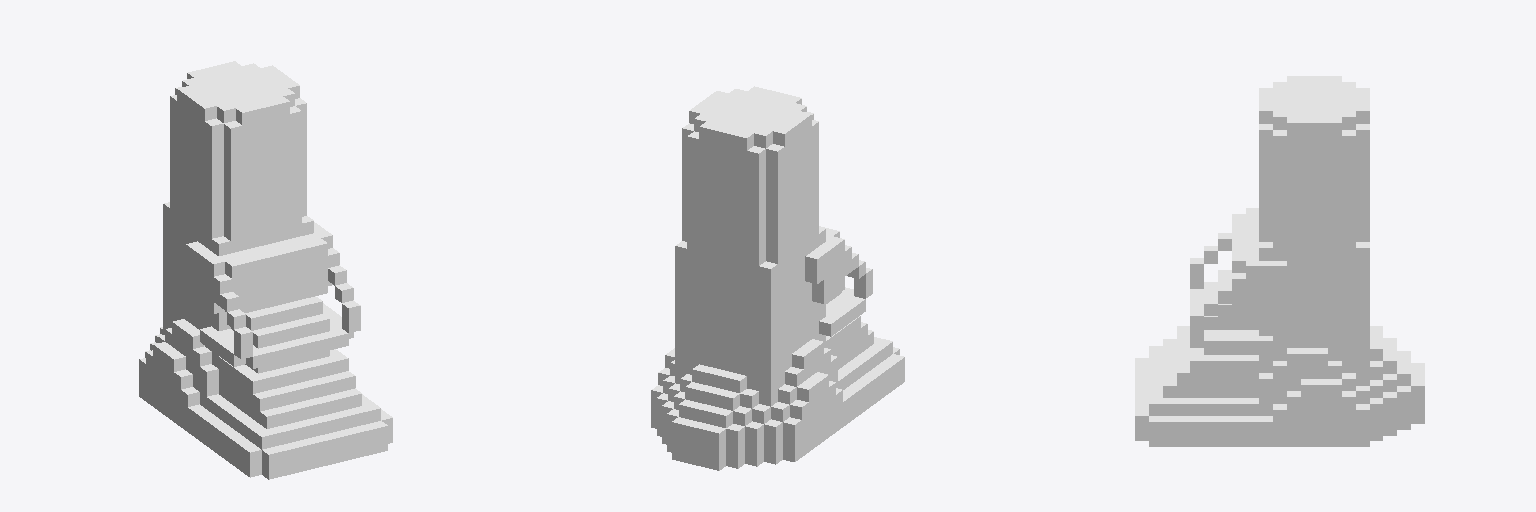
Rendered from female_mecha_shin.obj.
3 renders of one model, left to right at view 1: azimuth 30°, elevation 25°; view 2: azimuth 150°, elevation 25°; view 3: azimuth 270°, elevation 25°, orthographic.
Parts seen in each view (by area): view 1: female_mecha_shin; view 2: female_mecha_shin; view 3: female_mecha_shin.
Boxes of the visible parts, box(x1,y1,x2,y2) form: female_mecha_shin: box(139, 61, 392, 479); female_mecha_shin: box(651, 86, 904, 470); female_mecha_shin: box(1135, 76, 1424, 446).
Bounding box in the file's own units: 12 × 25 × 21.